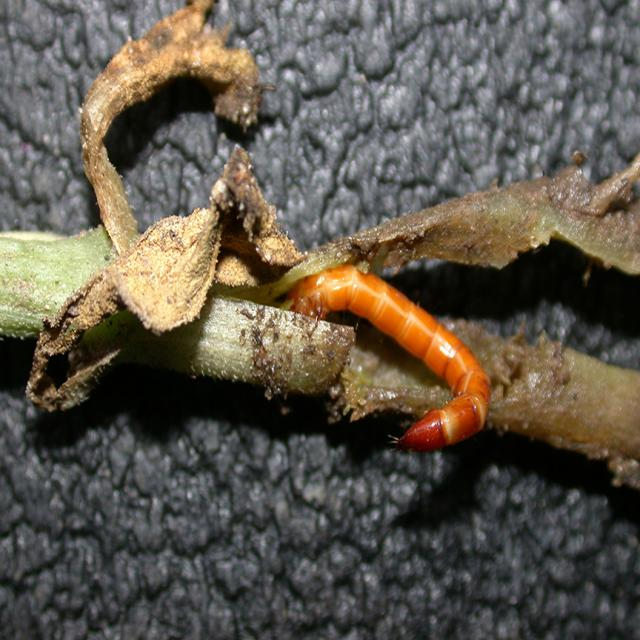wireworm: (292, 258, 495, 458)
